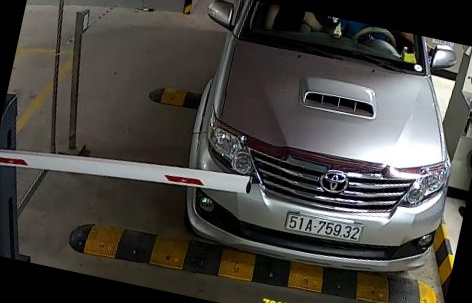plate: (285, 209, 366, 251)
